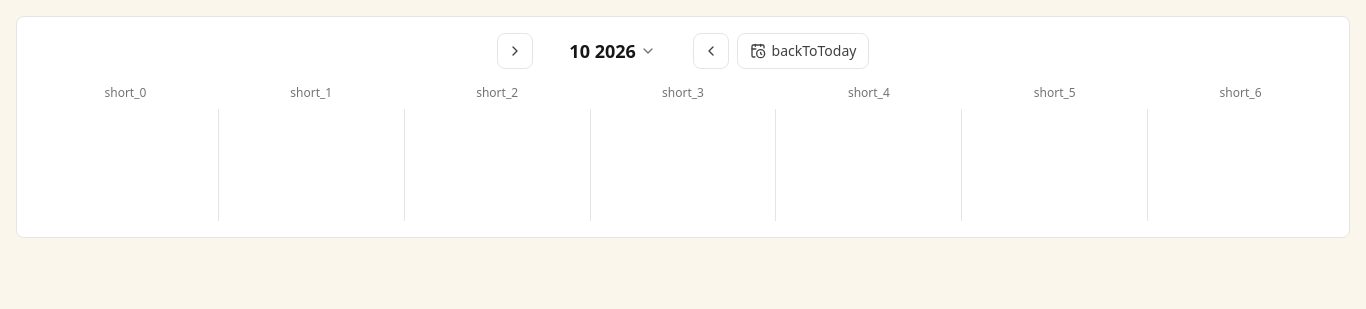
Test case: current period scrolling › opens a month-year picker from the month heading
This screenshot has width=1366, height=309.
Click the button "10 2026".
click(613, 51)  # box left=561, top=33, right=664, bottom=69
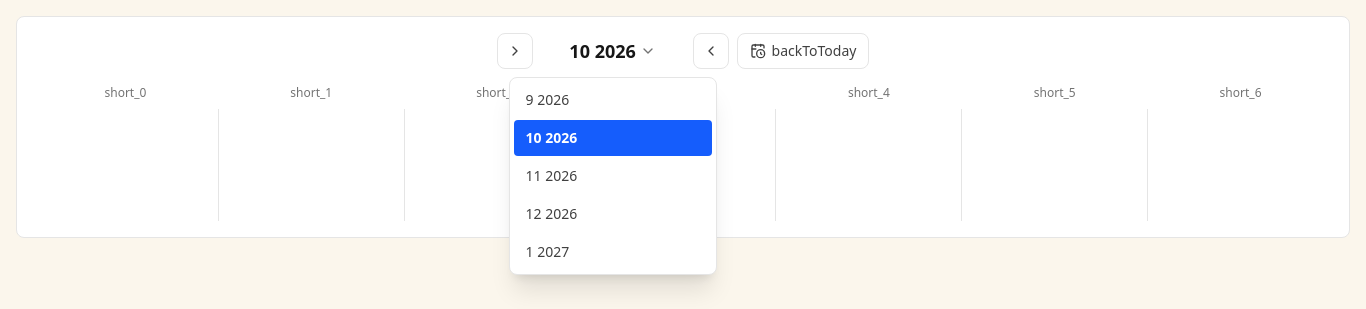
Expected: the list named "chooseMonth" is shown, left=514, top=82, right=712, bottom=270
Click the option "1 2027".
click(613, 252)  # box left=514, top=234, right=712, bottom=270
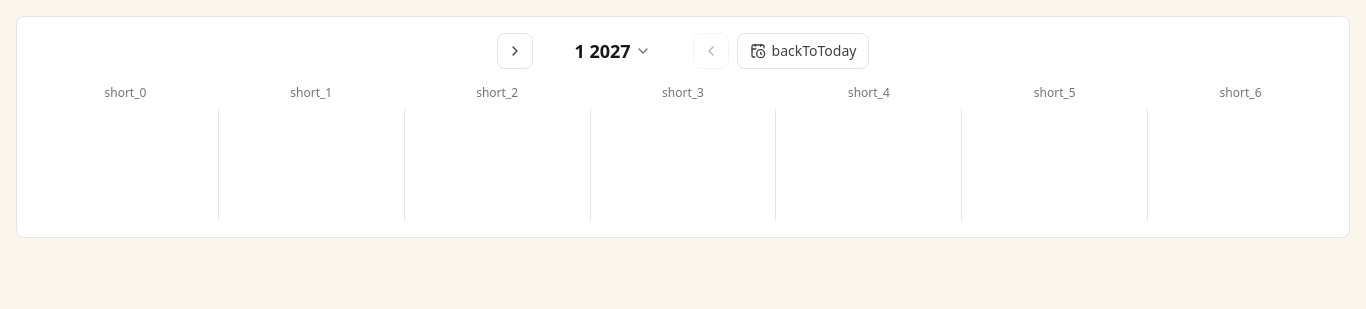
Expected: the heading "1 2027" is shown, left=566, top=33, right=659, bottom=69
